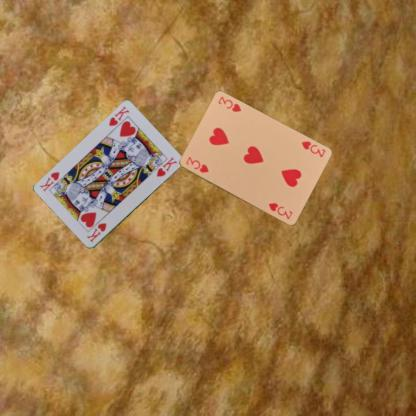3h: (299, 138, 326, 159), (183, 154, 210, 174)
Kh: (106, 103, 131, 128), (84, 221, 108, 244)
